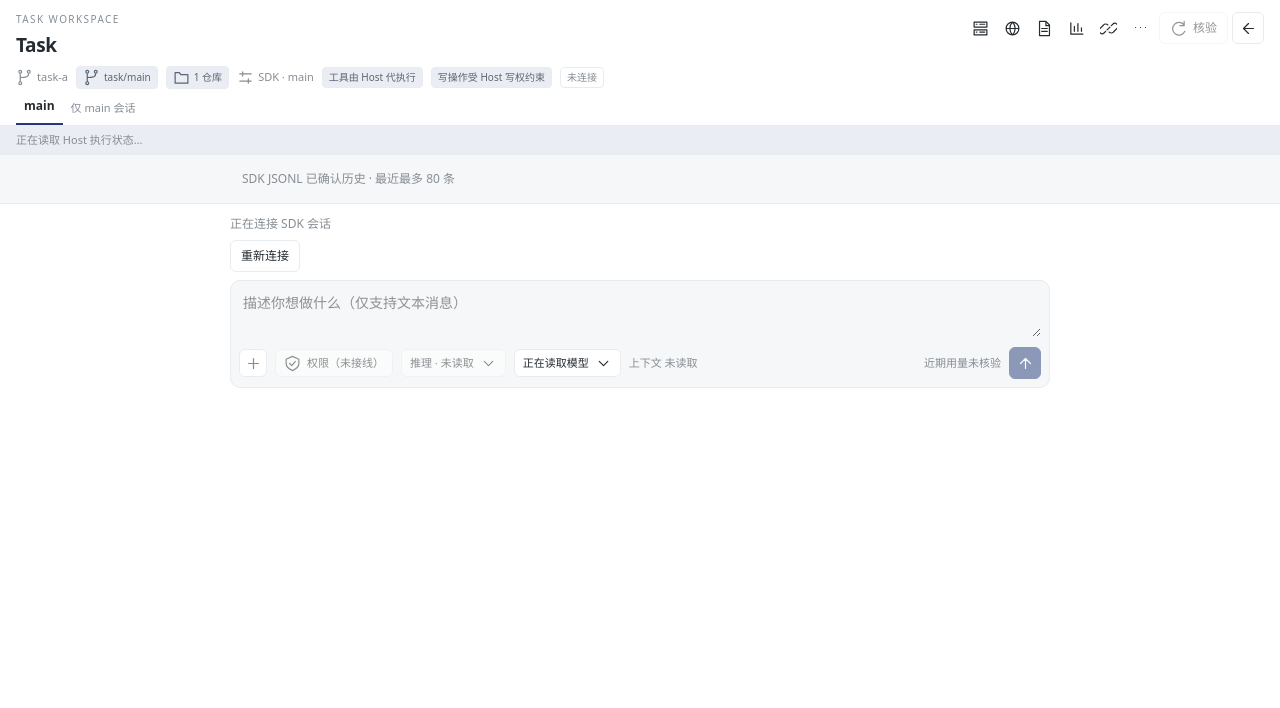
Test: [UI 对齐] S8d tool panels are on-demand and close-only › keeps the open tool tabs while the dock is collapsed and reopened
Expected: the text "仅 main 会话" is shown, [67,100,135,124]
Click the button named "运行" at (981, 28), box [967,14,995,42]
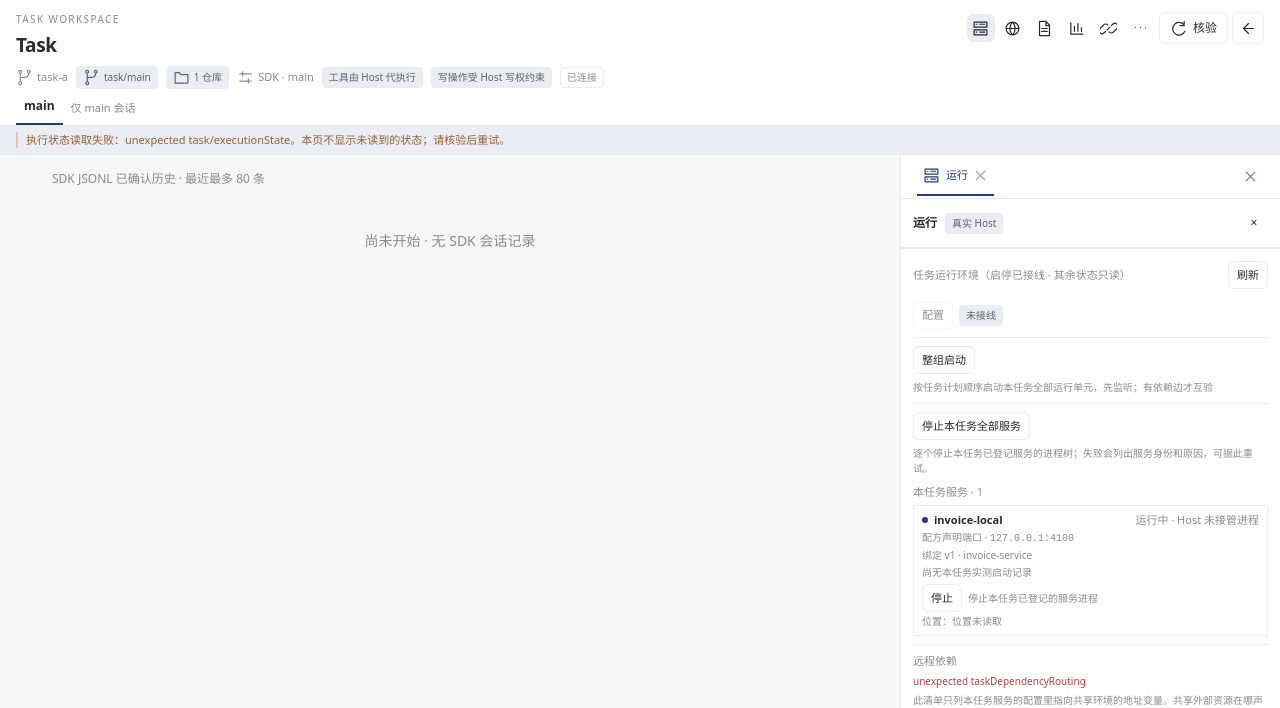
Result: the text "invoice-local" is shown at [934,512,1002,528]
Click the button named "日志" at (1077, 28), box [1063,14,1091,42]
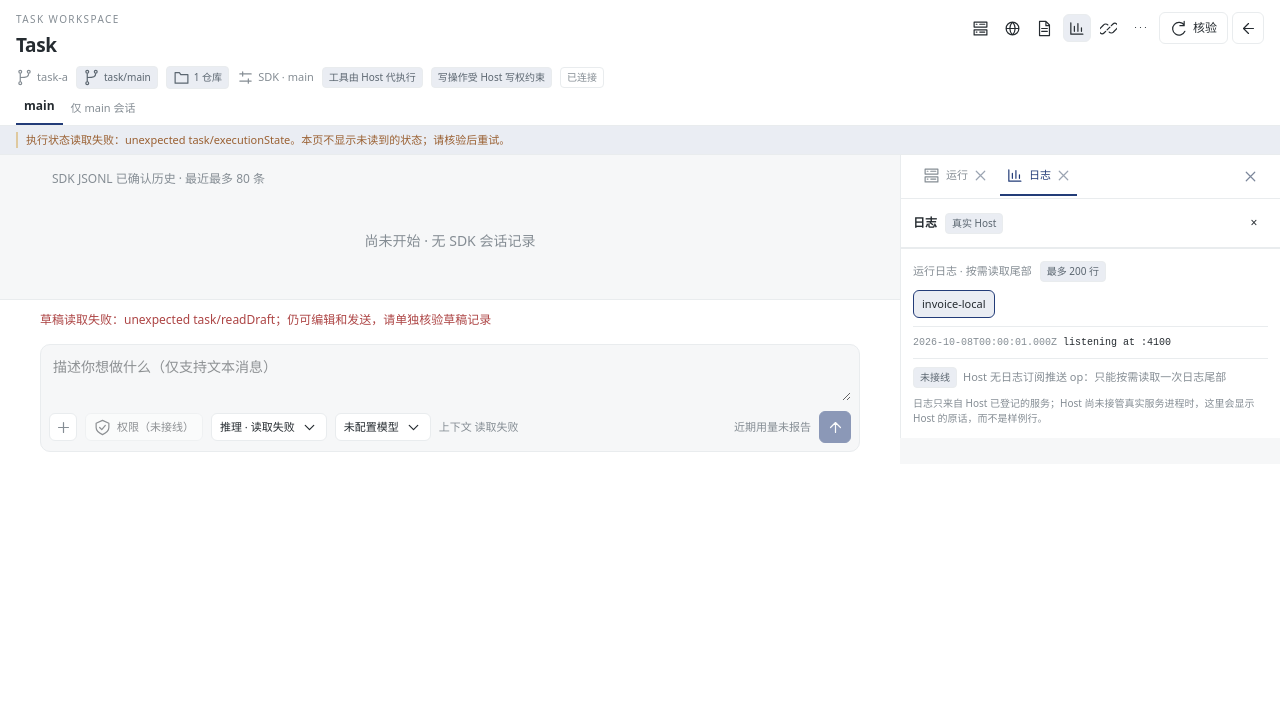
Result: the list item "2026-10-08T00:00:01.000Z listening at :4100" is shown at [913,337,1171,348]
Click the button named "收起工具区" at (1250, 176), box [1236,162,1264,190]
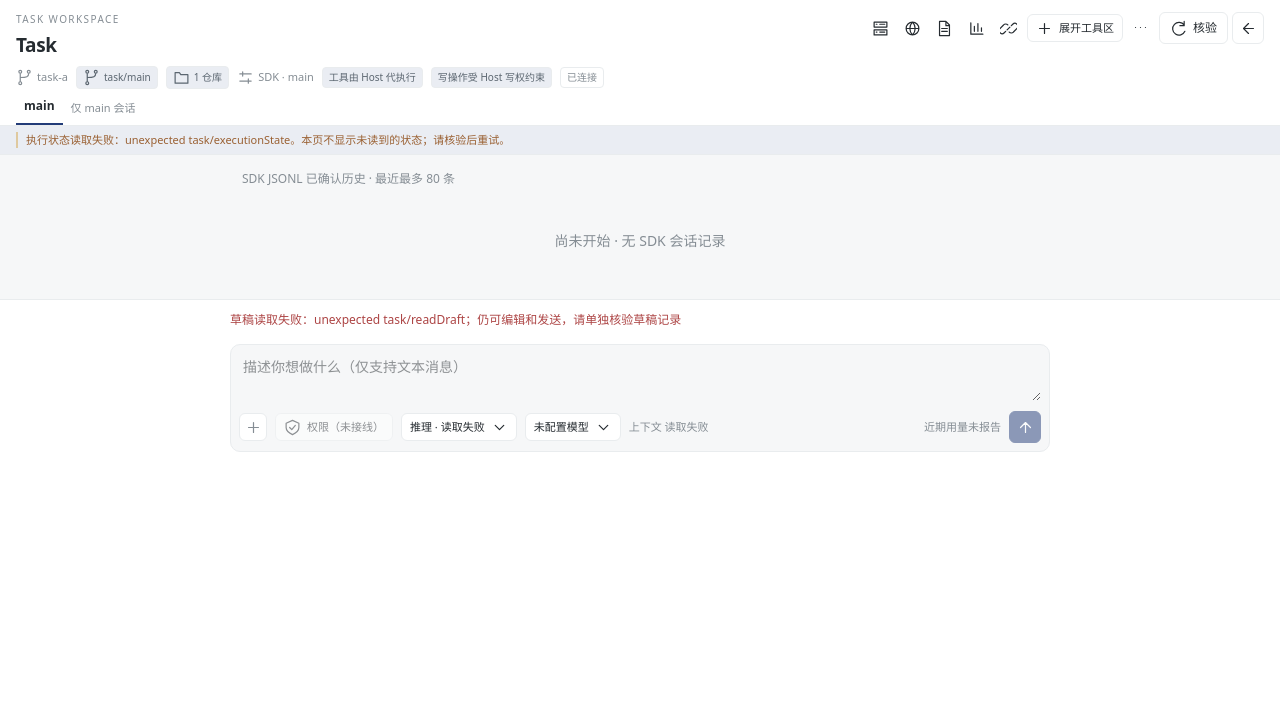
Click the button "展开工具区" at (1075, 28), box [1027,14,1123,42]
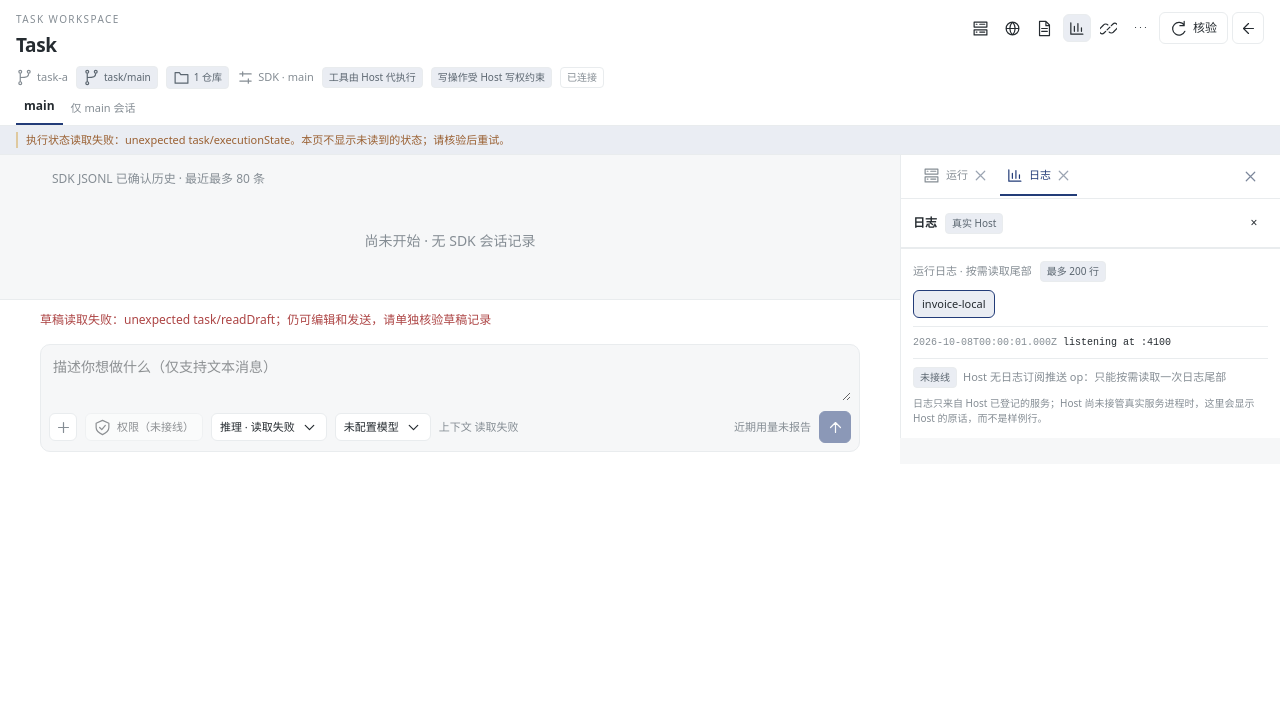
Result: the tab "运行" is shown at [917,157,970,194]
Result: the tab "日志" is shown at [1000,157,1053,194]
